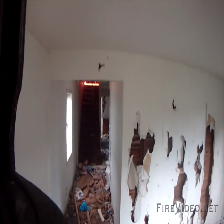fire_l: (83, 81, 100, 86)
